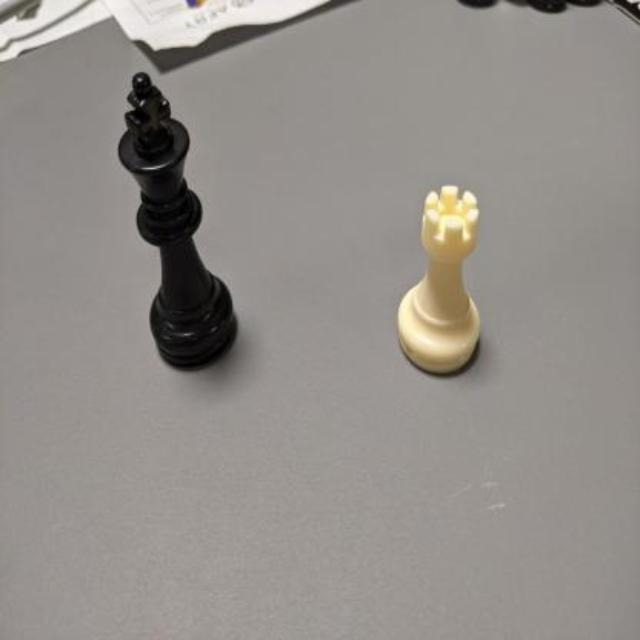black-king: (116, 71, 240, 372)
white-rook: (396, 184, 488, 373)
